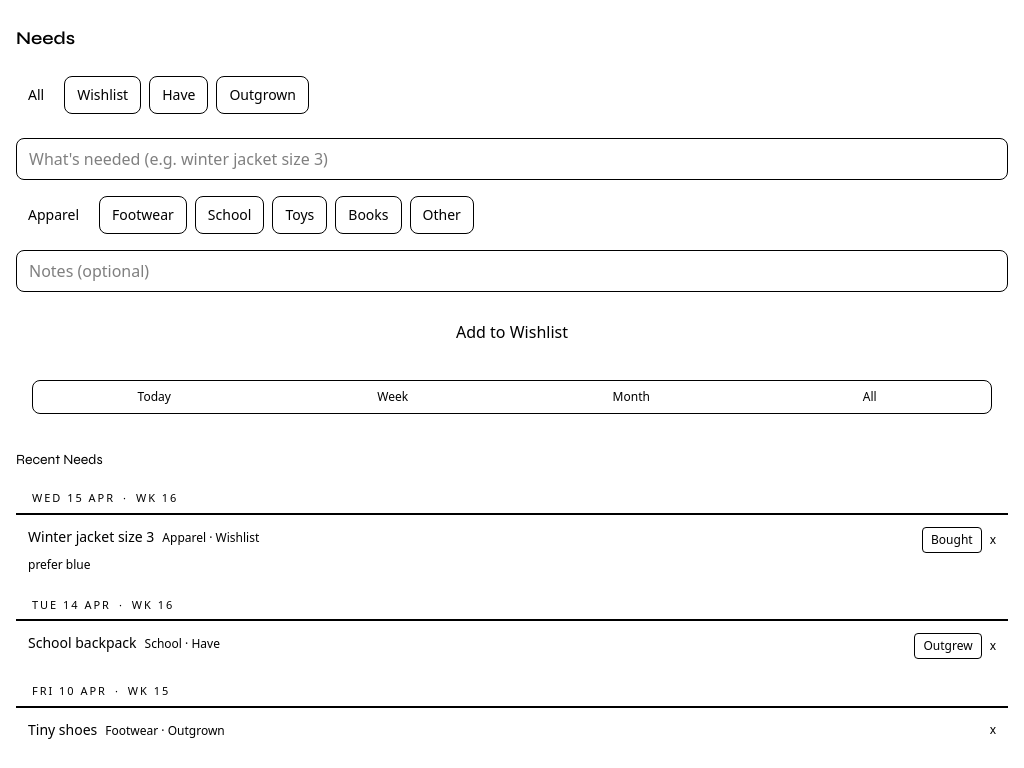
NeedsLog — filter chips › shows all entries again when the All chip is clicked
The width and height of the screenshot is (1024, 768).
Click the button "Wishlist" at [103, 95], box [64,76,141,114]
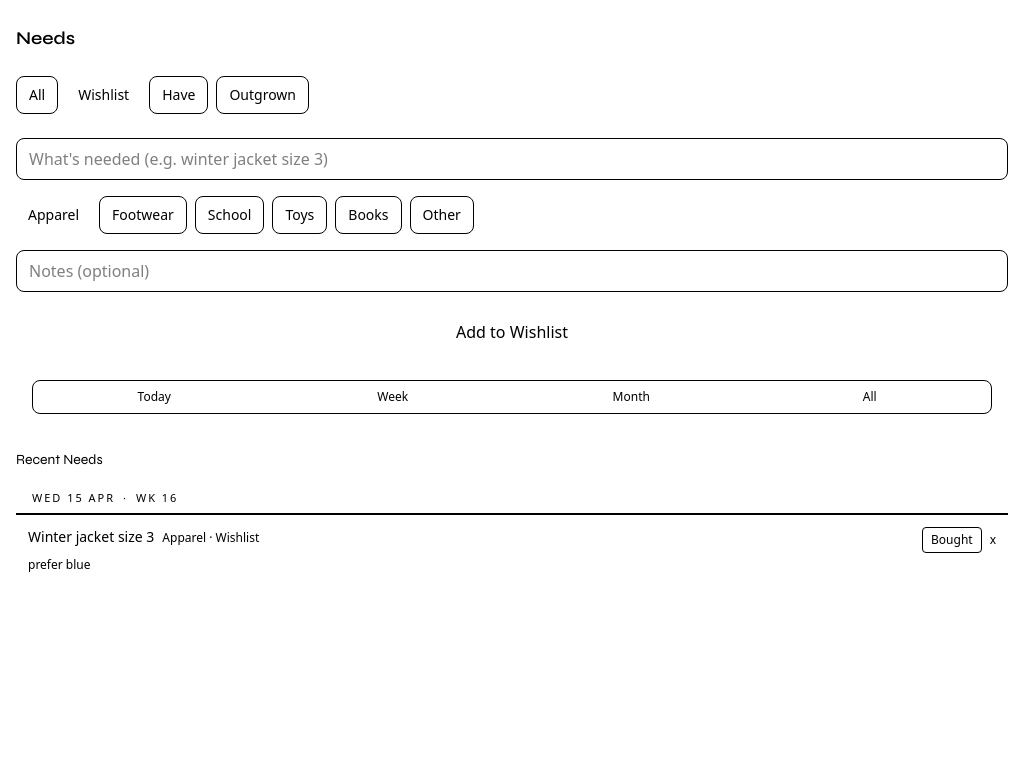
Click the 1st button "All" at [37, 95], box [16,76,58,114]
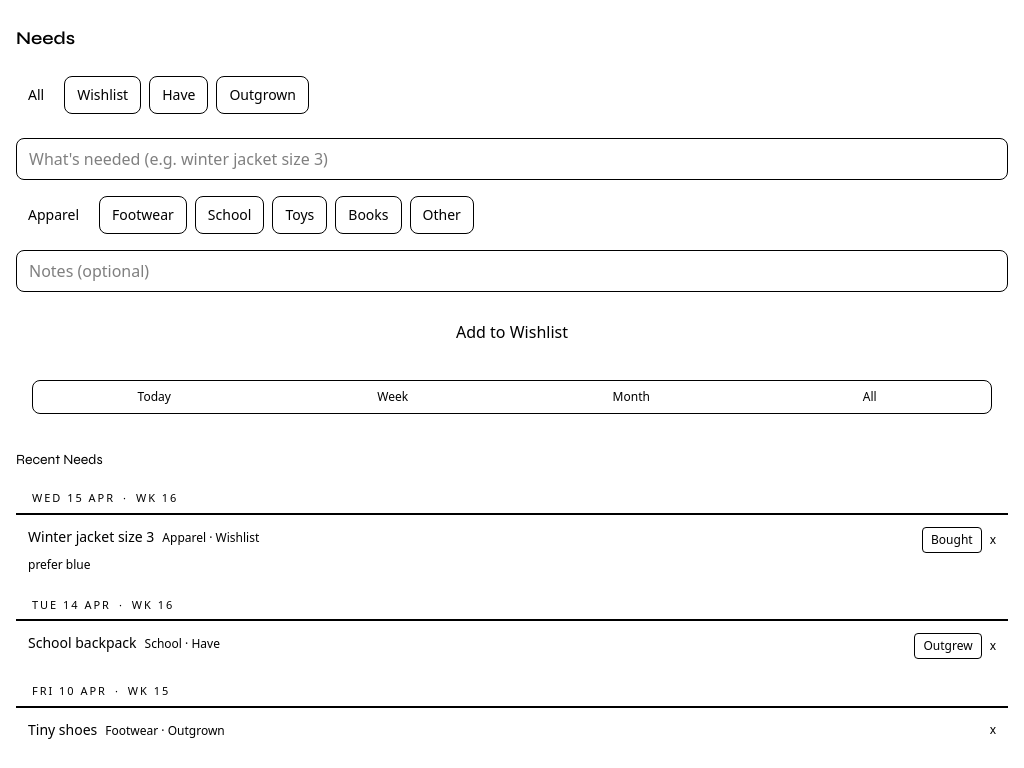
Check: the text "Winter jacket size 3Apparel · Wishlist" is shown, box [28,526,259,552]
Check: the text "School backpack" is shown, box [28,633,137,652]
Check: the text "Tiny shoes" is shown, box [28,720,97,738]
